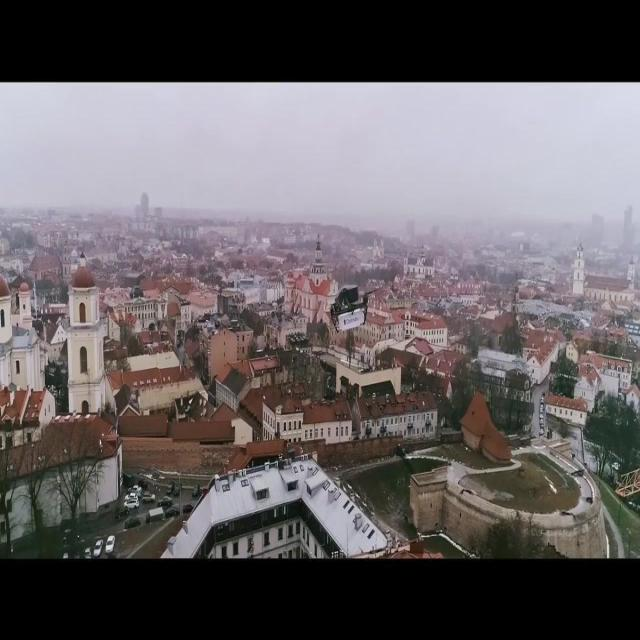drone: (323, 280, 376, 336)
